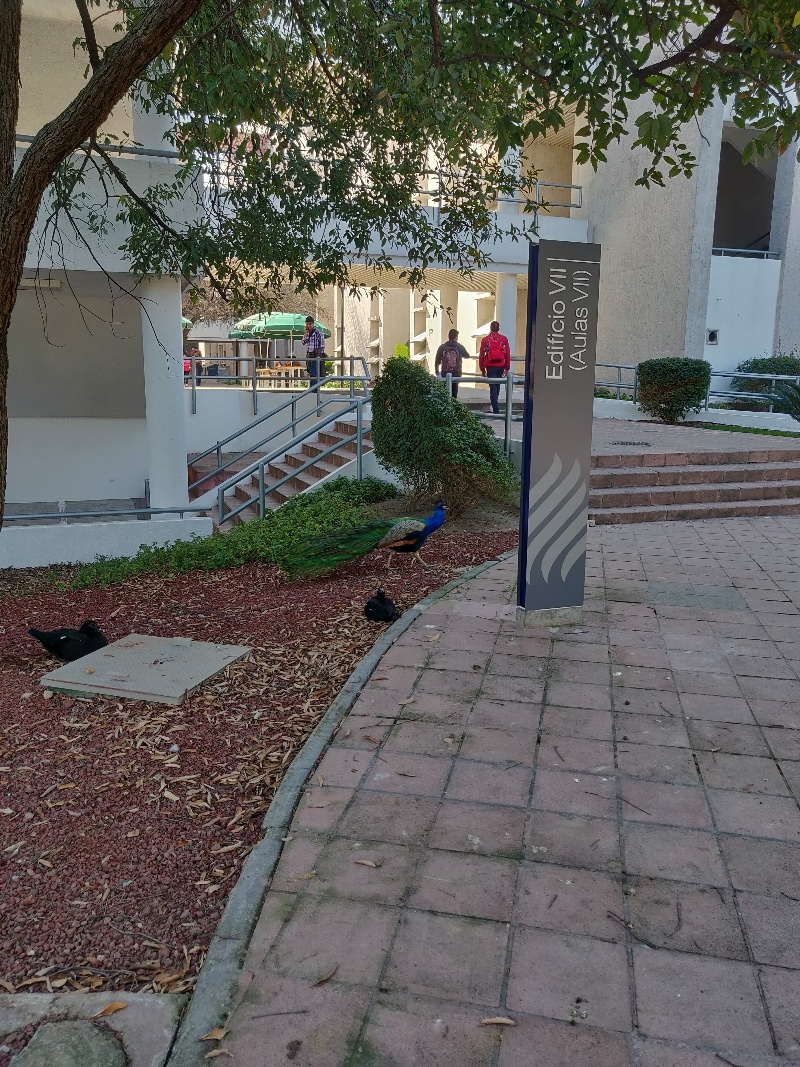pato: (31, 621, 99, 663), (361, 590, 401, 624)
pavoreal: (365, 498, 455, 571)
